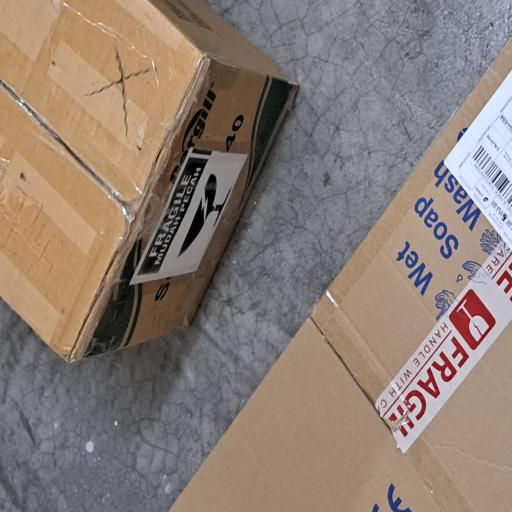cardboard: (108, 0, 384, 400), (0, 221, 356, 512)
